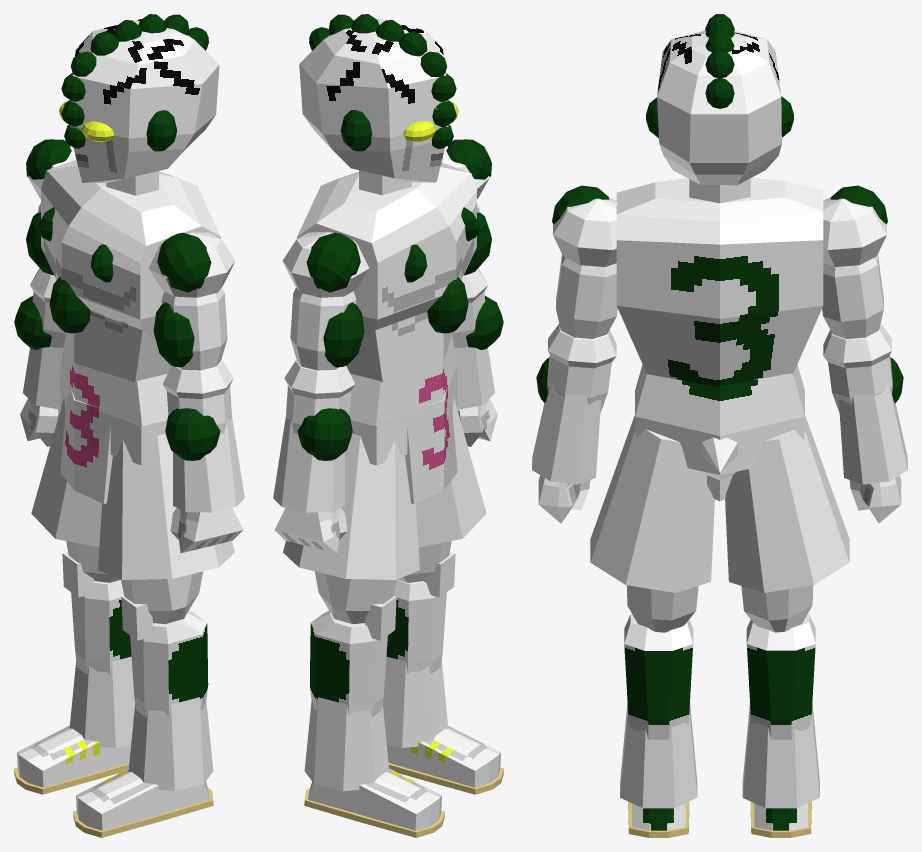
File: Echoes3.glb
3 views of the same model, side by side, from view 1: azimuth 30°, elevation 25°; view 2: azimuth 150°, elevation 25°; view 3: azimuth 270°, elevation 25° (orthographic). The views are drawn at different scales.
Visible parts, largest first — view 1: Torso, Cabeça, sphere (×5), Perna Baixo E, Perna Cima E, Pélvis, Perna Baixo D, Braço Baixo E, Pé E, Perna Cima D, Pé D, Braço Cima E (+3 smaller); view 2: Torso, Cabeça, sphere (×5), Perna Baixo D, Perna Cima D, Pélvis, Perna Baixo E, Braço Baixo D, Pé D, Perna Cima E, Pé E, Braço Cima D (+3 smaller); view 3: Torso, Perna Cima E, Perna Cima D, Cabeça, Pélvis, Perna Baixo D, Perna Baixo E, Braço Baixo E, Braço Baixo D, Braço Cima E, Braço Cima D, sphere (×3) (+4 smaller).
Part boxes in pixels (left/top/right/bottom): Torso: left=38, top=160, right=220, bottom=382; Cabeça: left=59, top=19, right=219, bottom=182; sphere (×5): left=14, top=14, right=220, bottom=460; Perna Baixo E: left=121, top=596, right=213, bottom=791; Perna Cima E: left=98, top=433, right=234, bottom=624; Pélvis: left=60, top=334, right=168, bottom=503; Perna Baixo D: left=62, top=552, right=135, bottom=747; Braço Baixo E: left=162, top=360, right=244, bottom=512; Pé E: left=73, top=768, right=213, bottom=837; Perna Cima D: left=31, top=397, right=120, bottom=582; Pé D: left=14, top=725, right=131, bottom=794; Braço Cima E: left=148, top=232, right=235, bottom=370; Torso: left=297, top=163, right=479, bottom=382; Cabeça: left=299, top=18, right=458, bottom=182; sphere (×5): left=297, top=14, right=503, bottom=460; Perna Baixo D: left=304, top=596, right=396, bottom=791; Perna Cima D: left=283, top=433, right=419, bottom=624; Pélvis: left=349, top=334, right=457, bottom=503; Perna Baixo E: left=382, top=552, right=455, bottom=747; Braço Baixo D: left=273, top=360, right=355, bottom=512; Pé D: left=304, top=768, right=444, bottom=837; Perna Cima E: left=397, top=397, right=486, bottom=582; Pé E: left=386, top=725, right=503, bottom=794; Braço Cima D: left=282, top=232, right=369, bottom=370; Torso: left=616, top=177, right=823, bottom=386; Perna Cima E: left=590, top=415, right=714, bottom=632; Perna Cima D: left=725, top=415, right=849, bottom=632; Cabeça: left=646, top=30, right=793, bottom=185; Pélvis: left=635, top=364, right=804, bottom=501; Perna Baixo D: left=742, top=614, right=819, bottom=808; Perna Baixo E: left=620, top=614, right=697, bottom=808; Braço Baixo E: left=532, top=324, right=616, bottom=484; Braço Baixo D: left=823, top=324, right=907, bottom=484; Braço Cima E: left=553, top=197, right=617, bottom=338; Braço Cima D: left=822, top=197, right=886, bottom=338; sphere (×3): left=552, top=14, right=887, bottom=224.
Size of the model in its own units: 1.67 by 6.82 by 2.91.
Materials: 5 (5 with a texture image).
